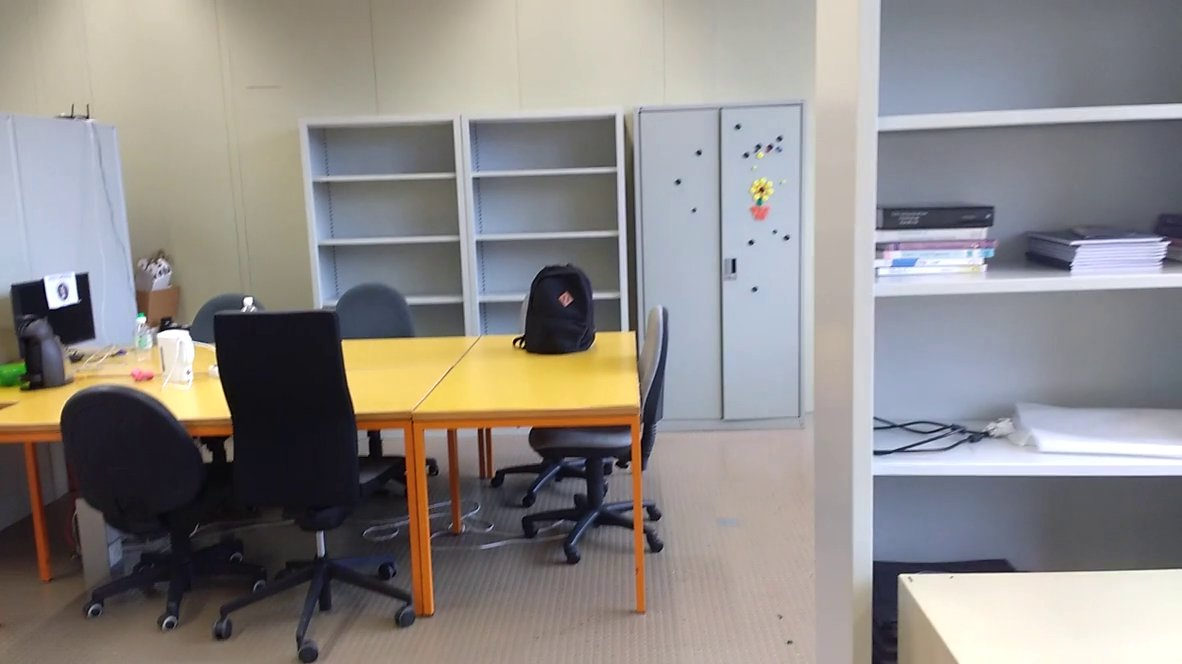bag: (509, 257, 603, 359)
chair: (210, 291, 429, 650), (46, 378, 265, 641), (524, 296, 689, 576), (315, 277, 439, 367)
